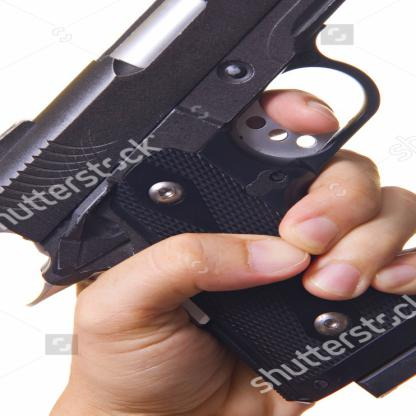gun: (0, 0, 415, 396)
